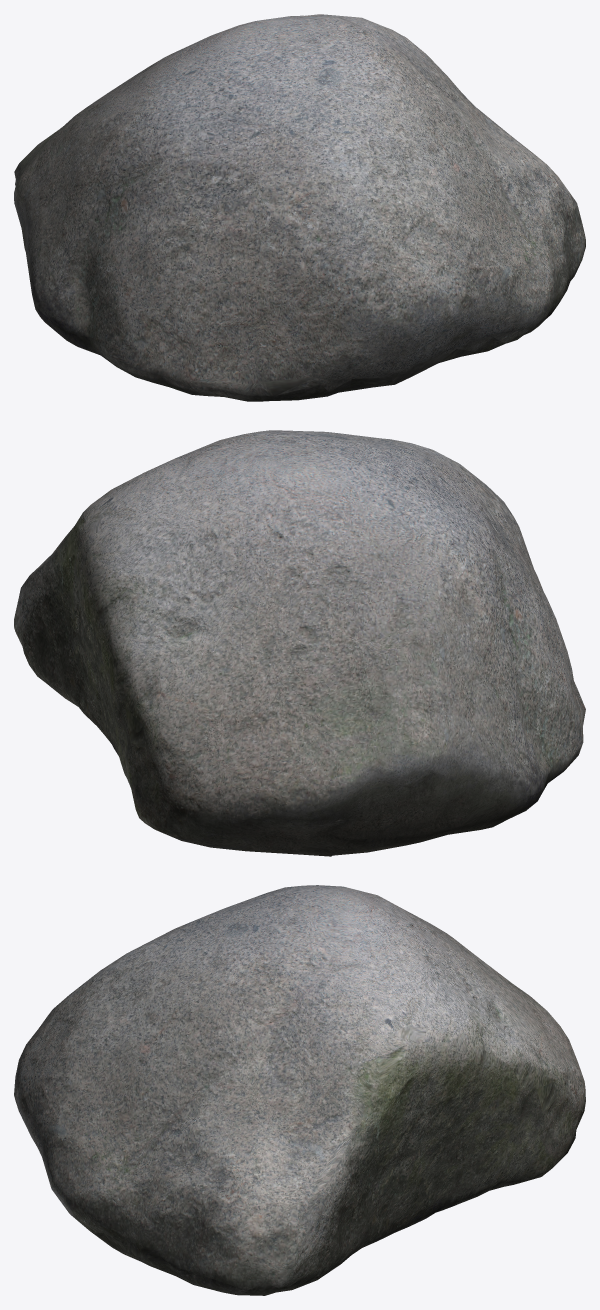
Rendered from rock_01.fbx.
3 renders of one model, top to bottom at view 1: azimuth 30°, elevation 25°; view 2: azimuth 150°, elevation 25°; view 3: azimuth 270°, elevation 25°, orthographic. The views are drawn at different scales.
Parts seen in each view (by area): view 1: Rock_LOD0; view 2: Rock_LOD0; view 3: Rock_LOD0.
Boxes of the visible parts, bbox=[...] form: Rock_LOD0: bbox=[14, 14, 585, 401]; Rock_LOD0: bbox=[14, 430, 585, 856]; Rock_LOD0: bbox=[14, 885, 585, 1295].
Size of what is drawn, in the model's own units: 141 by 72.87 by 140.
